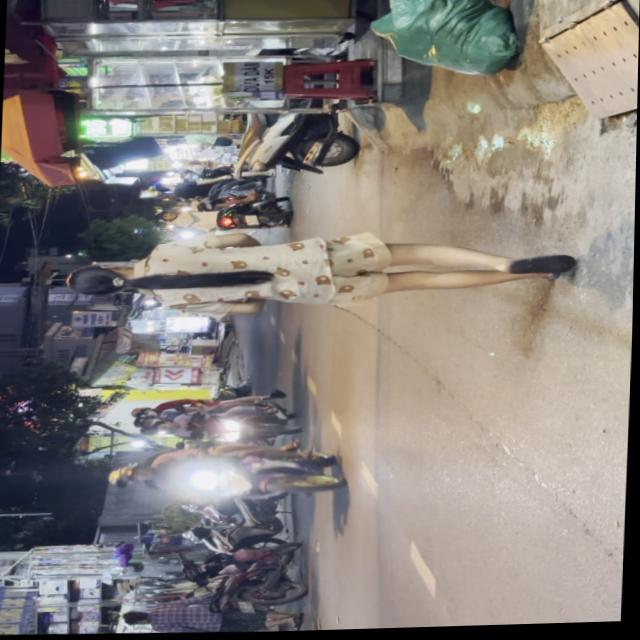helmet: (107, 466, 151, 490)
licenseplate: (104, 441, 348, 509)
